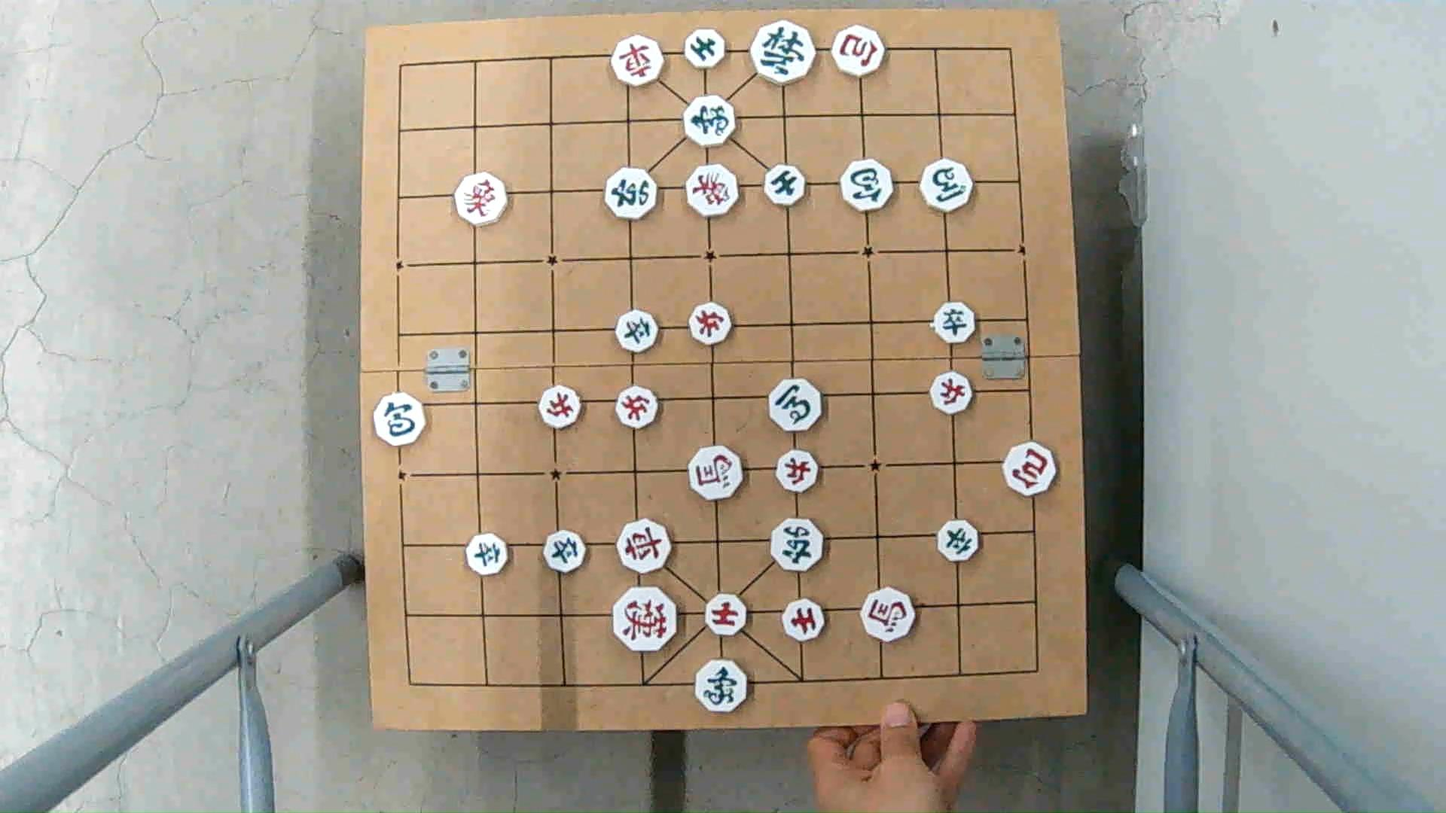cha_green: (602, 169, 661, 218), (770, 520, 827, 568)
cha_red: (615, 519, 673, 571), (609, 38, 666, 84)
jol_green: (930, 304, 978, 343), (465, 535, 512, 574), (613, 310, 660, 349), (935, 522, 982, 560), (543, 534, 591, 571)
jol_red: (685, 302, 734, 341), (772, 449, 819, 489), (613, 388, 661, 427), (536, 388, 585, 426), (928, 375, 976, 413)
ma_green: (766, 379, 826, 427), (920, 162, 976, 210)
ma_red: (688, 444, 743, 502), (860, 591, 918, 640)
po_green: (840, 157, 898, 215), (371, 394, 430, 443)
po_red: (1001, 446, 1060, 492), (831, 26, 889, 72)
sa_green: (761, 167, 809, 205), (685, 30, 728, 67)
sa_red: (703, 592, 752, 638), (780, 597, 830, 641)
sang_green: (693, 660, 752, 709), (683, 99, 740, 147)
sang_red: (685, 165, 742, 215), (453, 175, 509, 222)
wang_green: (748, 24, 817, 82)
wang_red: (609, 590, 679, 651)
